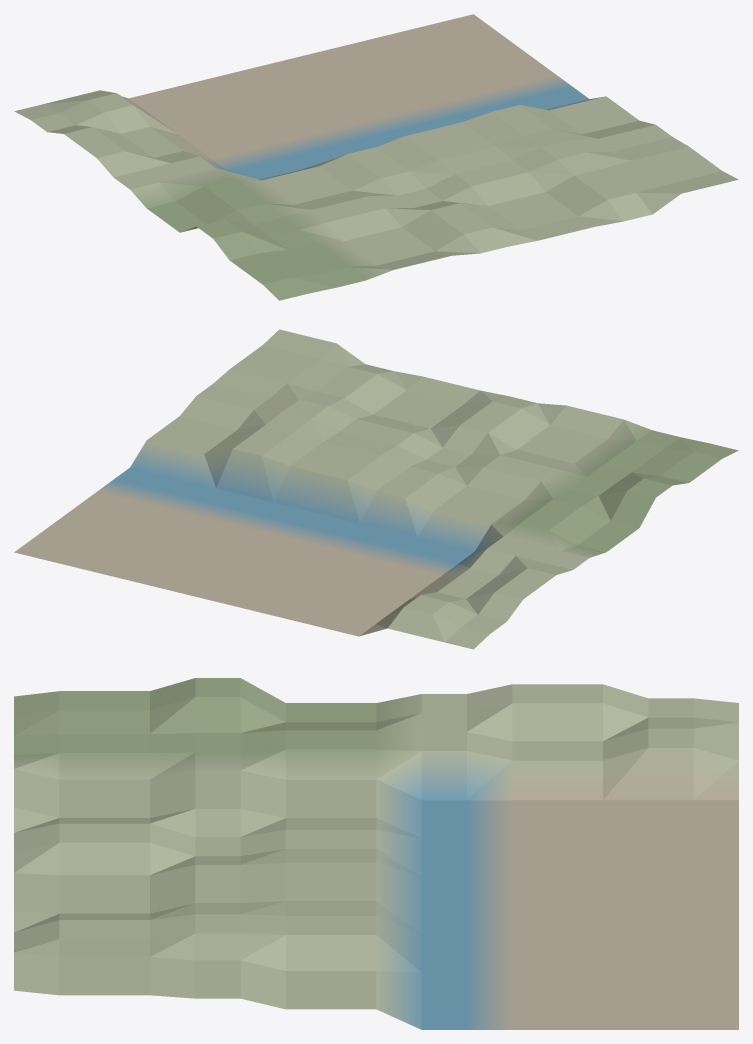
The picture shows the model from 3 angles, top to bottom: view 1: azimuth 30°, elevation 25°; view 2: azimuth 150°, elevation 25°; view 3: azimuth 270°, elevation 25°; orthographic projection. The views are drawn at different scales.
Bounding box in the file's own units: 32 × 2.22 × 32.
